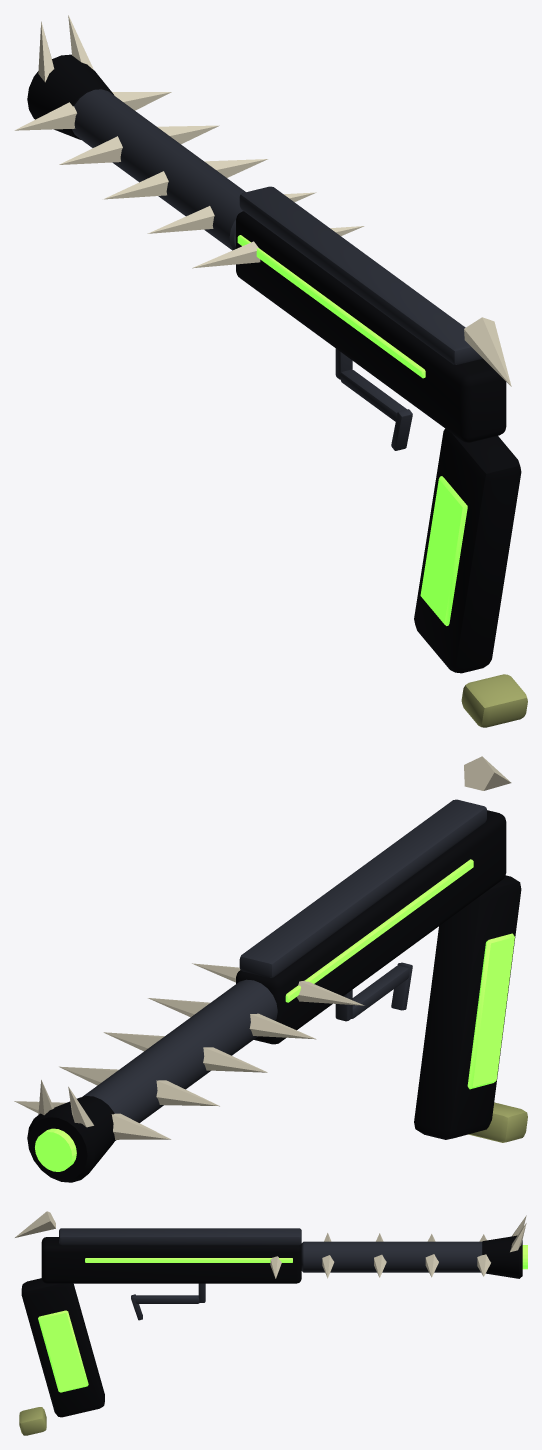
File: thorn.glb
3 renders of one model, top to bottom at view 1: azimuth 30°, elevation 25°; view 2: azimuth 150°, elevation 25°; view 3: azimuth 270°, elevation 25°, orthographic. The views are drawn at different scales.
Visible parts, largest first — view 1: black, steel, bone, green, gold; view 2: black, steel, bone, green, gold; view 3: black, steel, green, bone, gold.
Boxes of the visible parts, <box> form: black: <box>27,54,521,673</box>; steel: <box>72,89,482,450</box>; bone: <box>14,15,511,386</box>; green: <box>237,235,467,625</box>; gold: <box>461,674,527,727</box>; black: <box>27,810,521,1182</box>; steel: <box>82,799,486,1140</box>; bone: <box>14,756,511,1139</box>; green: <box>35,859,514,1171</box>; gold: <box>468,1102,527,1142</box>; black: <box>21,1235,522,1417</box>; steel: <box>59,1228,482,1320</box>; green: <box>38,1245,527,1392</box>; bone: <box>15,1211,526,1278</box>; gold: <box>19,1407,46,1435</box>.
Size of the model in its own units: 0.13 by 0.2797 by 0.5929.
